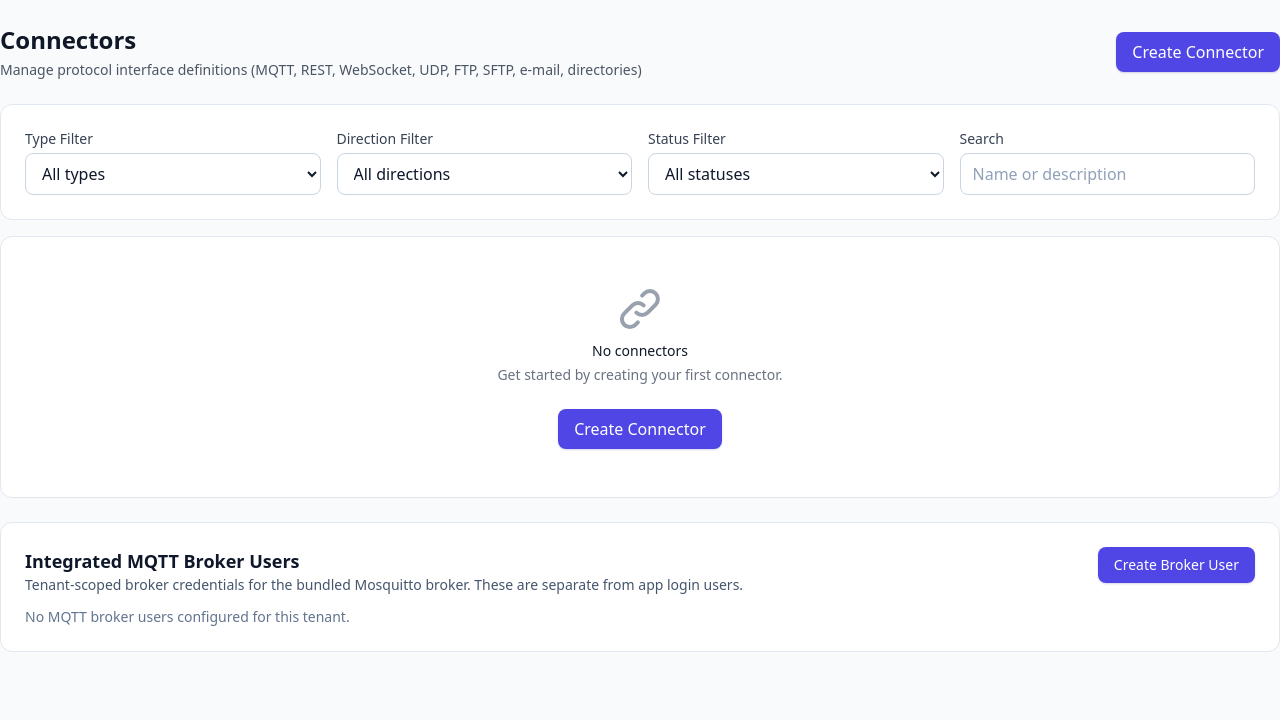
Connectors page: pull inputs › asks for the settings an SFTP source needs
Click the 1st button "Create Connector" at coordinates (1198, 52), box [1116, 32, 1279, 72]
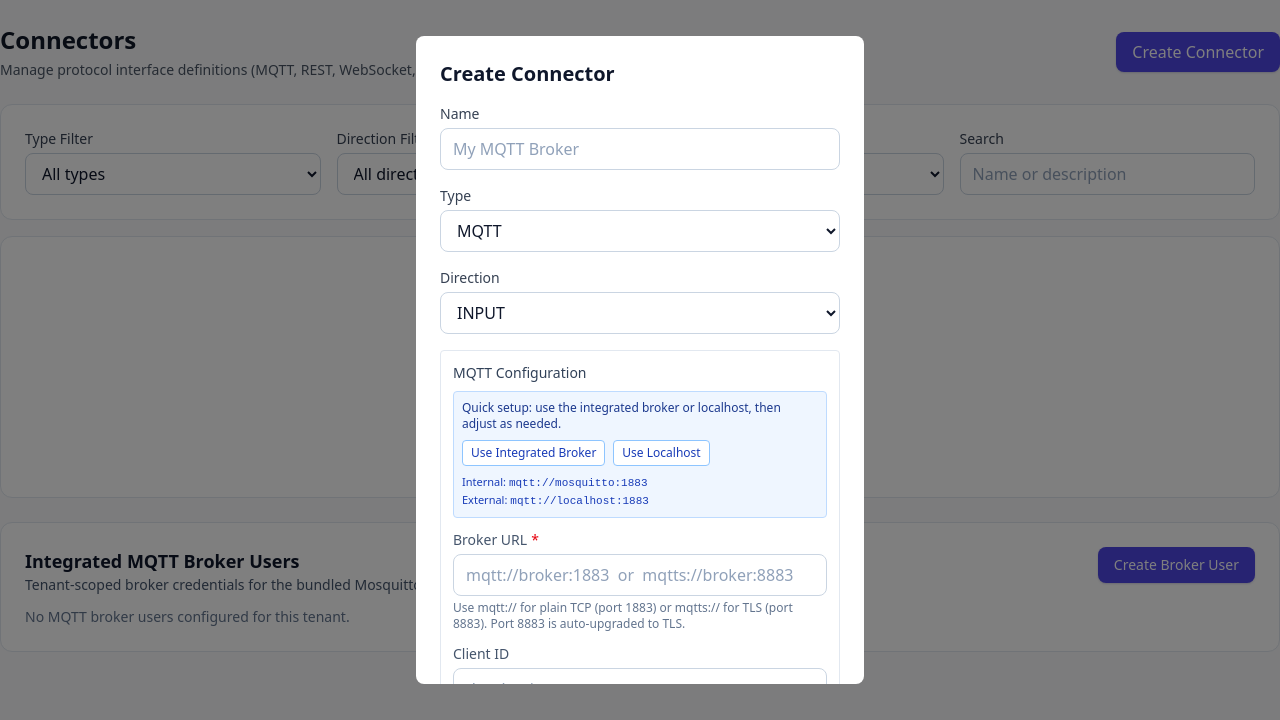
Select "SFTP (inbox)" in the dropdown labelled "Type" at coordinates (640, 231), box [440, 210, 840, 252]
(page scrolled)
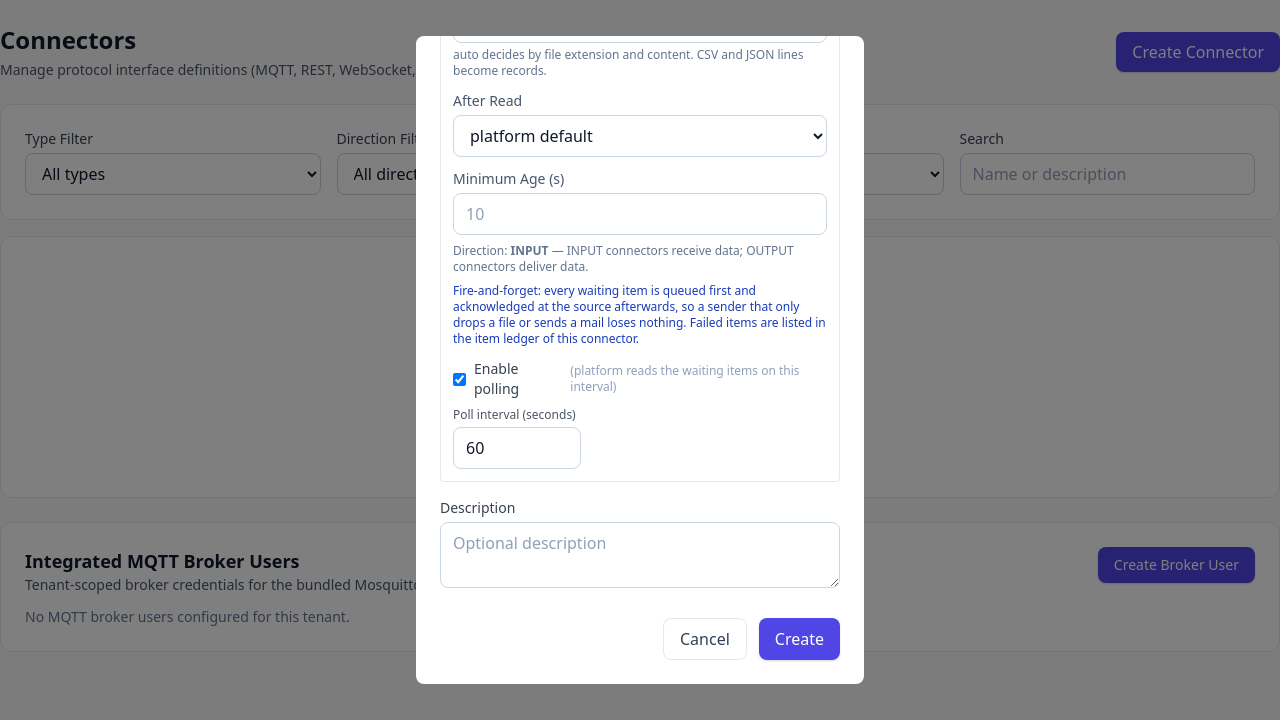
Result: the dropdown labelled "After Read" is shown at [453, 115, 827, 157]
Result: the text "Enable polling" is shown at [474, 359, 519, 398]
